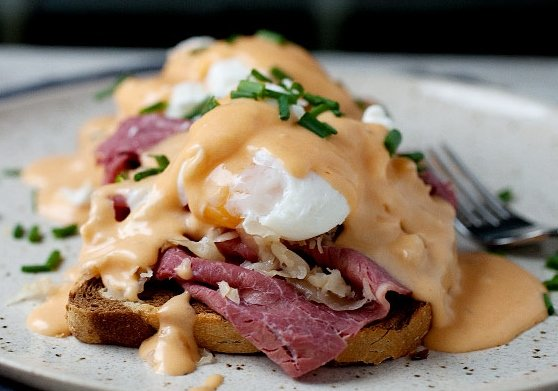burger: (433, 141, 558, 249)
soup: (37, 32, 467, 386)
